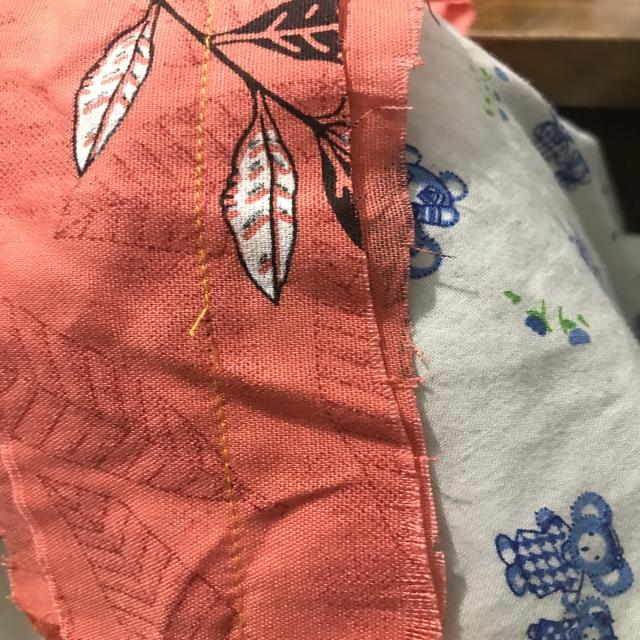broken: (179, 298, 244, 402)
good: (174, 180, 216, 266)
